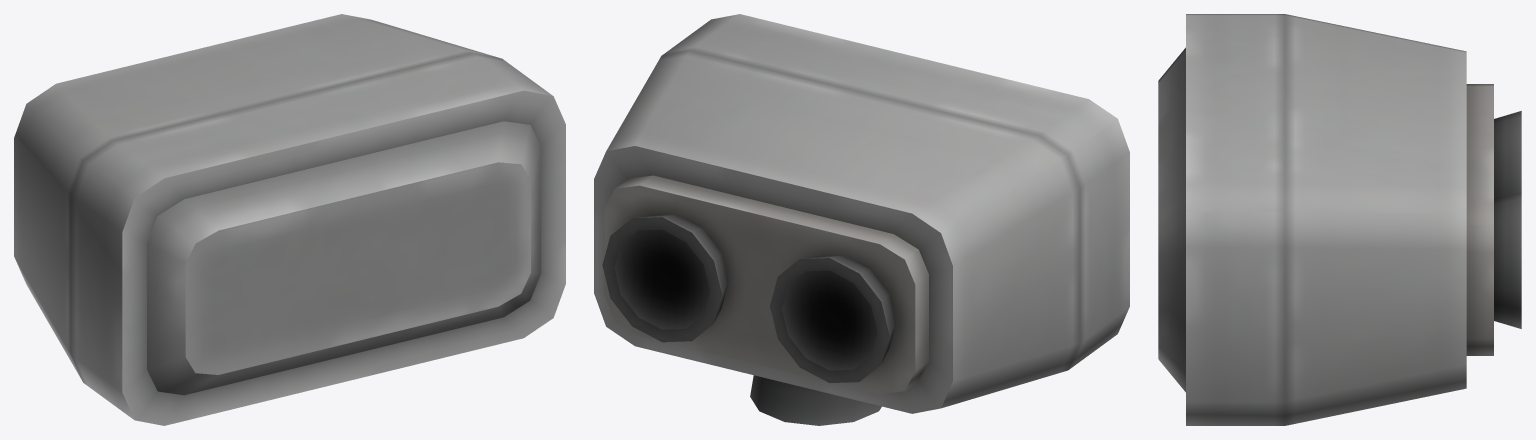
Rendered from Tantares_MOE_4_E.obj.
3 renders of one model, left to right at view 1: azimuth 30°, elevation 25°; view 2: azimuth 150°, elevation 25°; view 3: azimuth 270°, elevation 25°, orthographic. The views are drawn at different scales.
Parts seen in each view (by area): view 1: Tantares_MOE_4_E; view 2: Tantares_MOE_4_E; view 3: Tantares_MOE_4_E.
Boxes of the visible parts, box(x1,y1,x2,y2) form: Tantares_MOE_4_E: box(14, 14, 565, 425); Tantares_MOE_4_E: box(594, 14, 1129, 425); Tantares_MOE_4_E: box(1158, 14, 1521, 425).
Size of the model in its own units: 0.225 by 0.135 by 0.165.
